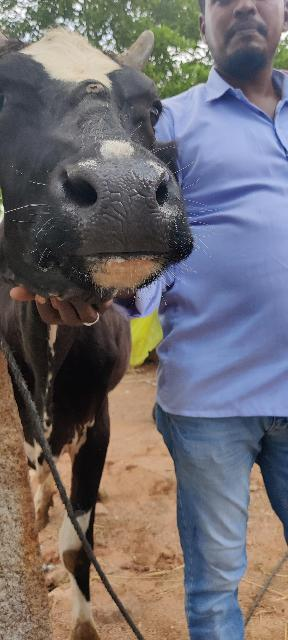Muzzle: (80, 164, 168, 253)
